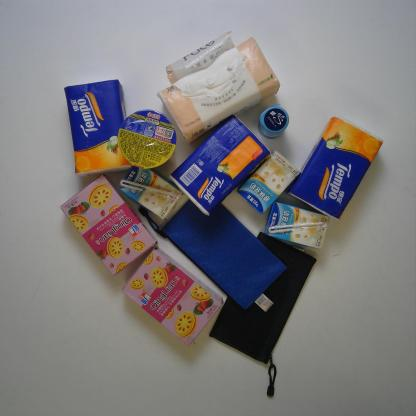Dessert: (121, 245, 228, 349), (58, 174, 155, 278)
Gum: (258, 100, 291, 138)
Instant Noodles: (118, 106, 184, 172)
Milk: (238, 146, 302, 214), (116, 163, 184, 222), (264, 199, 333, 250)
Stationery: (207, 230, 320, 396), (159, 196, 289, 312)
Tissue: (156, 29, 284, 146), (166, 114, 274, 216), (286, 113, 386, 223), (61, 77, 138, 176)
